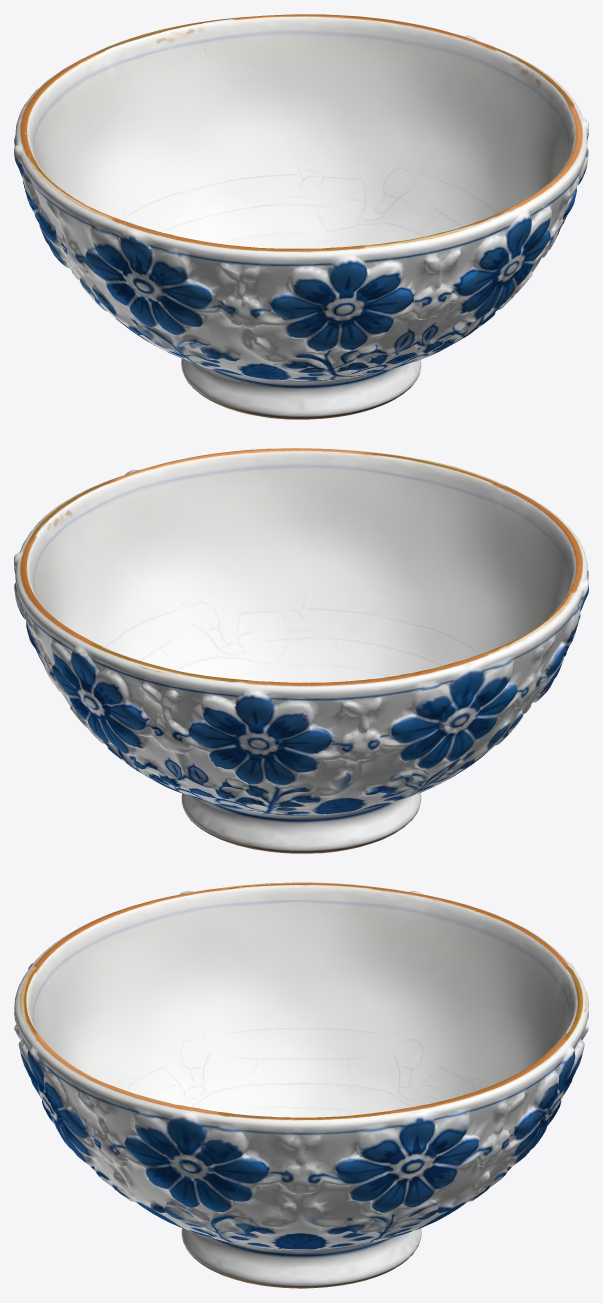
The model's file is cousin_7.glb.
3 renders of one model, top to bottom at view 1: azimuth 30°, elevation 25°; view 2: azimuth 150°, elevation 25°; view 3: azimuth 270°, elevation 25°, orthographic.
Size of the model in its own units: 1.9 by 0.8874 by 1.91.
1 material, 1 textured.
